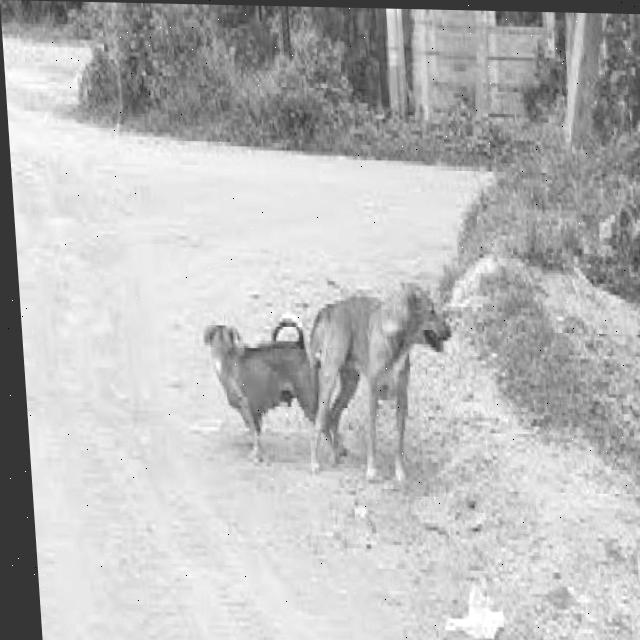Dog: (305, 262, 463, 503), (195, 287, 330, 476)
